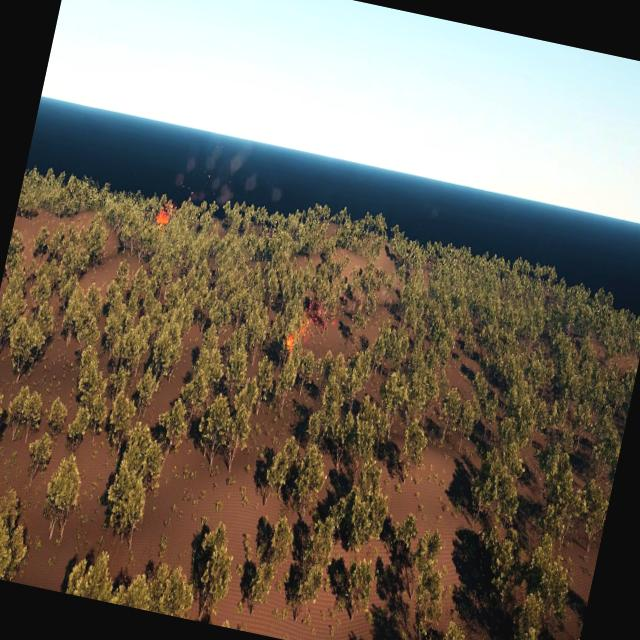fire: (155, 207, 171, 226), (284, 336, 294, 349)
smoke: (172, 126, 268, 206), (294, 296, 342, 349), (421, 197, 448, 225), (268, 184, 284, 206)
